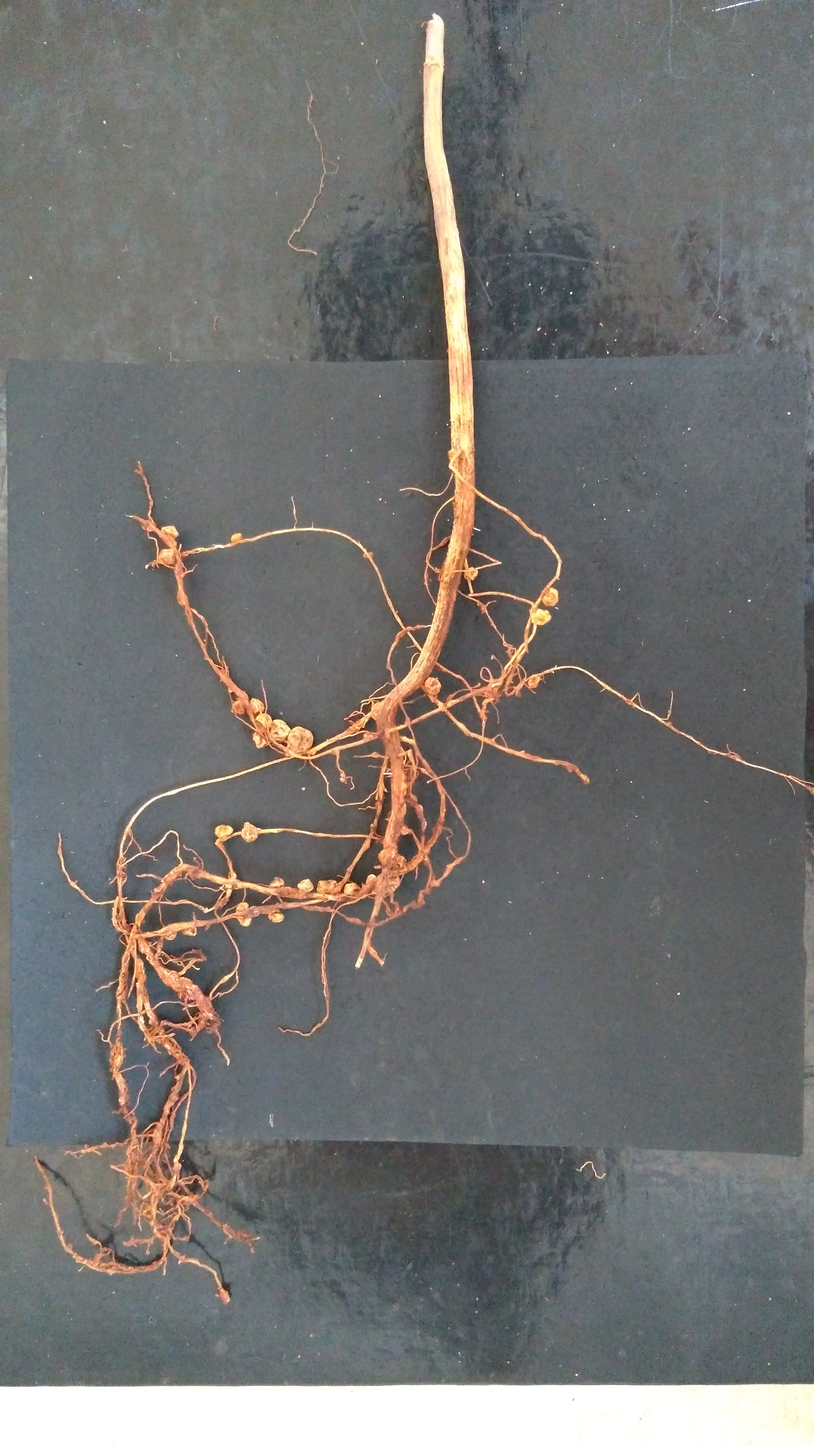nodule: (285, 726, 313, 757), (378, 849, 407, 872), (270, 719, 291, 743), (235, 902, 252, 927), (383, 875, 400, 897), (531, 609, 551, 626), (242, 822, 258, 843), (253, 731, 271, 749), (542, 588, 558, 606), (425, 677, 441, 695), (158, 549, 176, 565), (316, 879, 336, 893), (255, 714, 273, 729), (297, 878, 314, 893), (215, 824, 233, 838), (161, 525, 179, 539), (371, 701, 385, 719), (250, 698, 265, 714), (268, 909, 284, 923), (226, 870, 237, 889), (344, 883, 361, 895), (464, 567, 478, 581), (232, 701, 246, 715), (527, 674, 540, 688), (269, 877, 284, 888), (382, 726, 392, 741), (448, 449, 458, 463), (182, 927, 197, 936), (113, 1054, 122, 1068), (164, 931, 177, 940), (400, 824, 409, 837), (172, 1162, 182, 1172), (231, 533, 242, 542), (366, 874, 376, 883), (363, 552, 374, 559), (340, 772, 346, 783), (153, 886, 162, 893), (370, 823, 375, 829), (364, 732, 368, 738)
